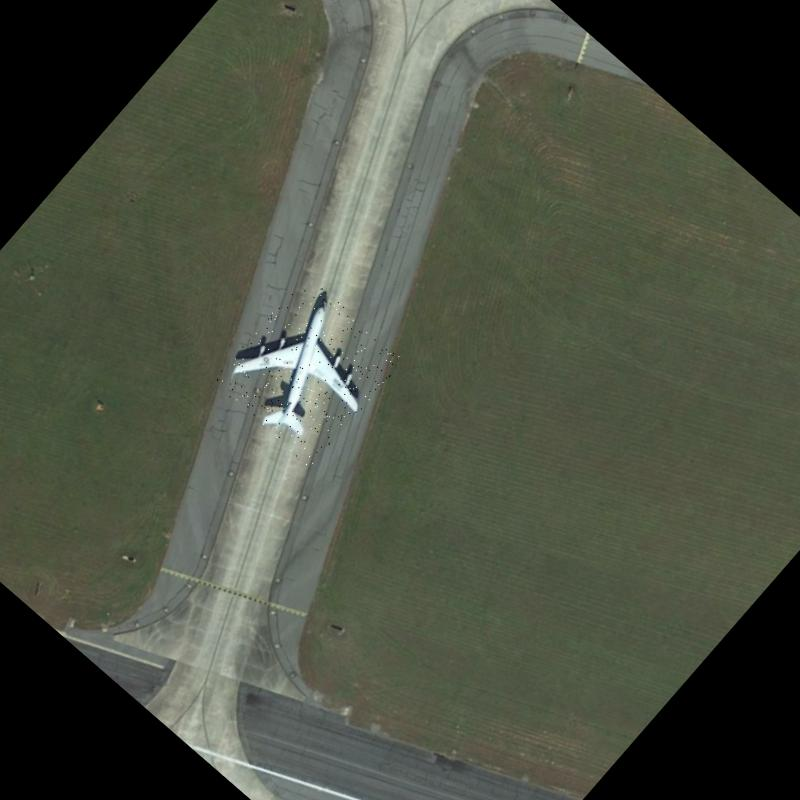A11: (211, 274, 404, 469)
